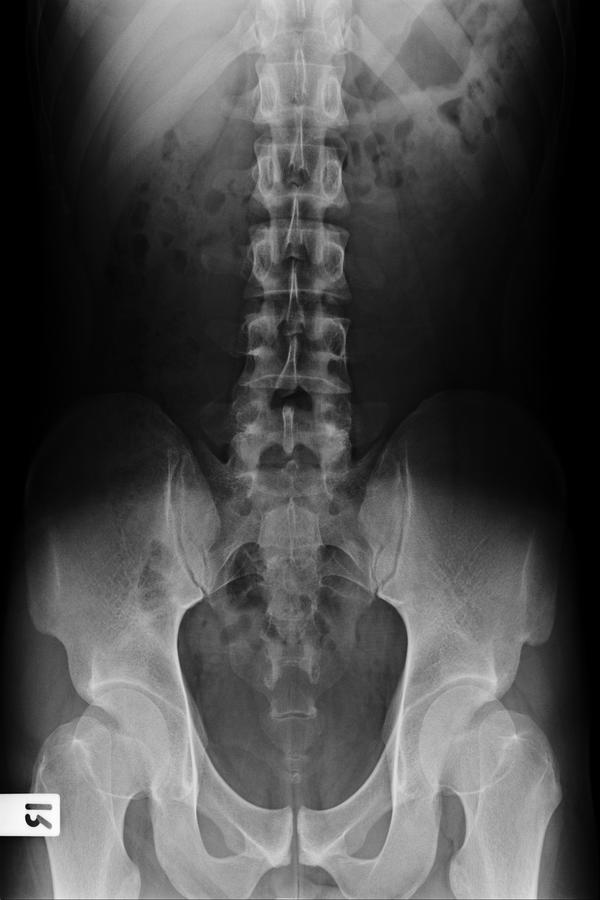not lumbar scoliosis: (233, 161, 368, 525)
